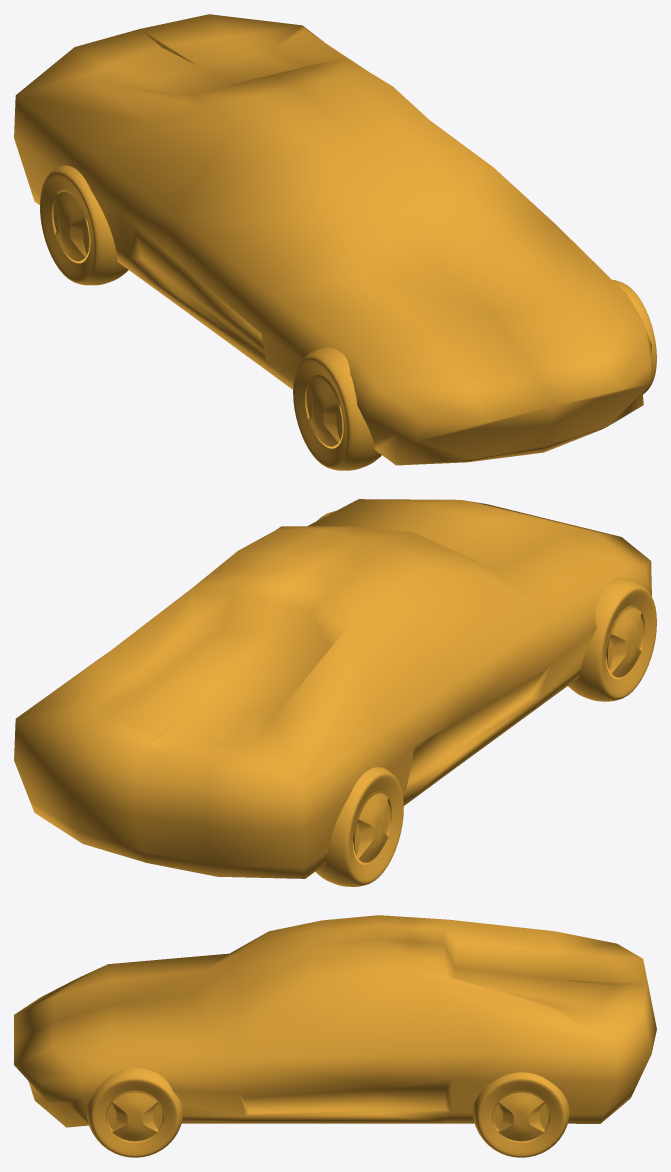
3 renders of one model, top to bottom at view 1: azimuth 30°, elevation 25°; view 2: azimuth 150°, elevation 25°; view 3: azimuth 270°, elevation 25°, orthographic. The views are drawn at different scales.
Visible parts, largest first — view 1: Cube.001, Cylinder.001, Plane; view 2: Cube.001, Cylinder.001, Plane; view 3: Cube.001, Cylinder.001, Plane.
Part boxes in pixels (x1,y1,x2,y2): Cube.001: (14,14,651,465); Cylinder.001: (40,165,656,470); Plane: (51,192,343,446); Cube.001: (14,499,651,878); Cylinder.001: (315,511,656,886); Plane: (353,608,644,862); Cube.001: (14,915,656,1127); Cylinder.001: (86,1067,569,1157); Plane: (106,1092,549,1141).
Size of the model in its own units: 1.82 by 1.2 by 4.22.
